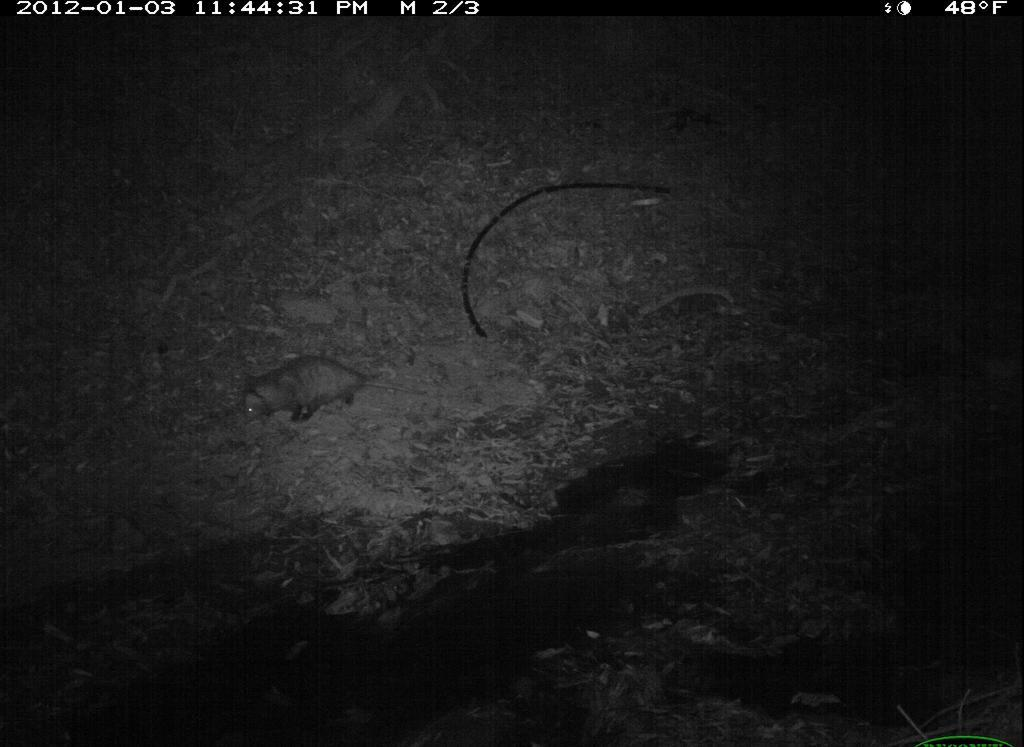opossum: (235, 350, 431, 430)
